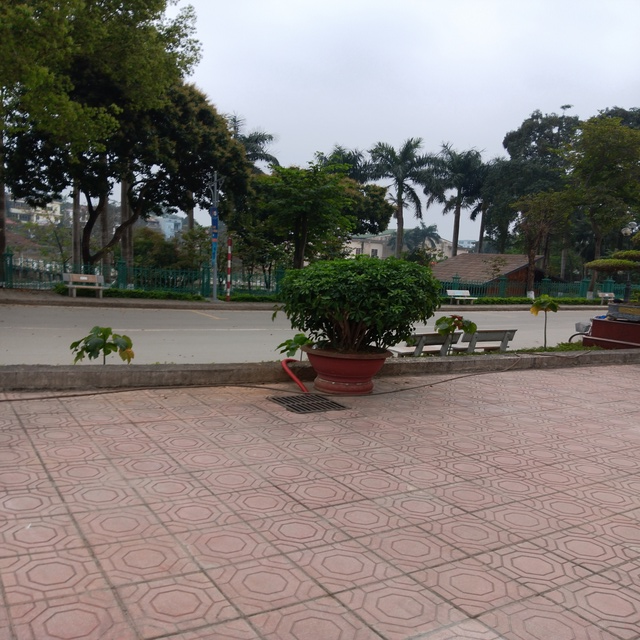caycanh: (278, 252, 429, 402), (583, 237, 640, 328)
